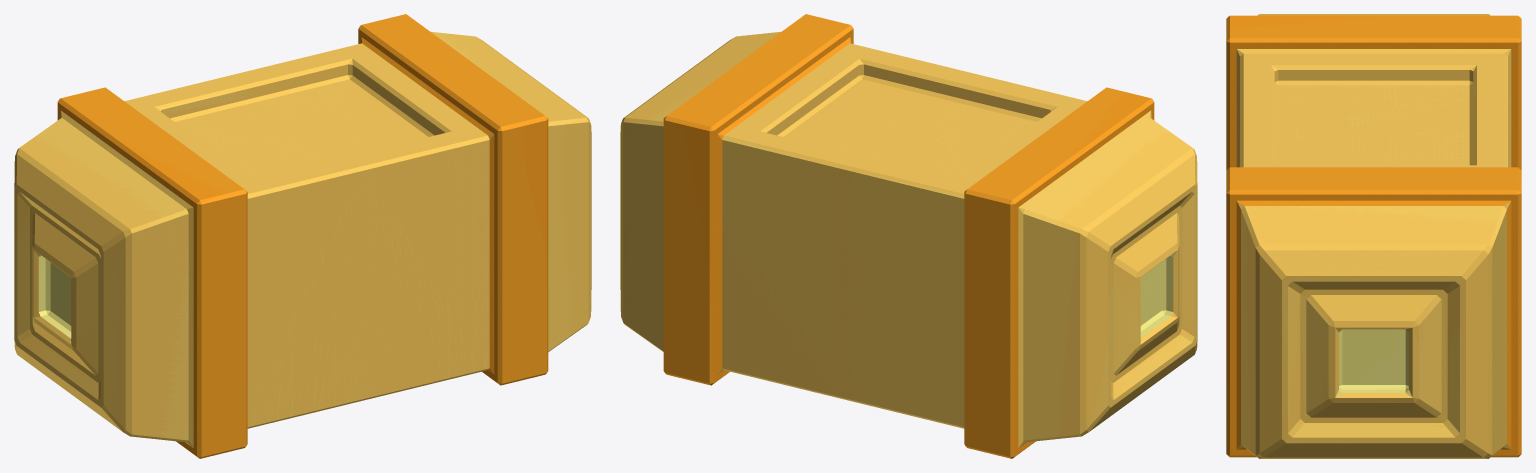
File: wonkout_brick.gltf
3 views of the same model, side by side, from view 1: azimuth 30°, elevation 25°; view 2: azimuth 150°, elevation 25°; view 3: azimuth 270°, elevation 25° (orthographic). The views are drawn at different scales.
Parts seen in each view (by area): view 1: Cube; view 2: Cube; view 3: Cube.
Boxes of the visible parts, box(x1,y1,x2,y2) form: Cube: box(14, 14, 591, 458); Cube: box(620, 14, 1197, 458); Cube: box(1226, 14, 1521, 458).
Bounding box in the file's own units: 2.23 × 1.1 × 1.1.
1 material, 1 textured.
